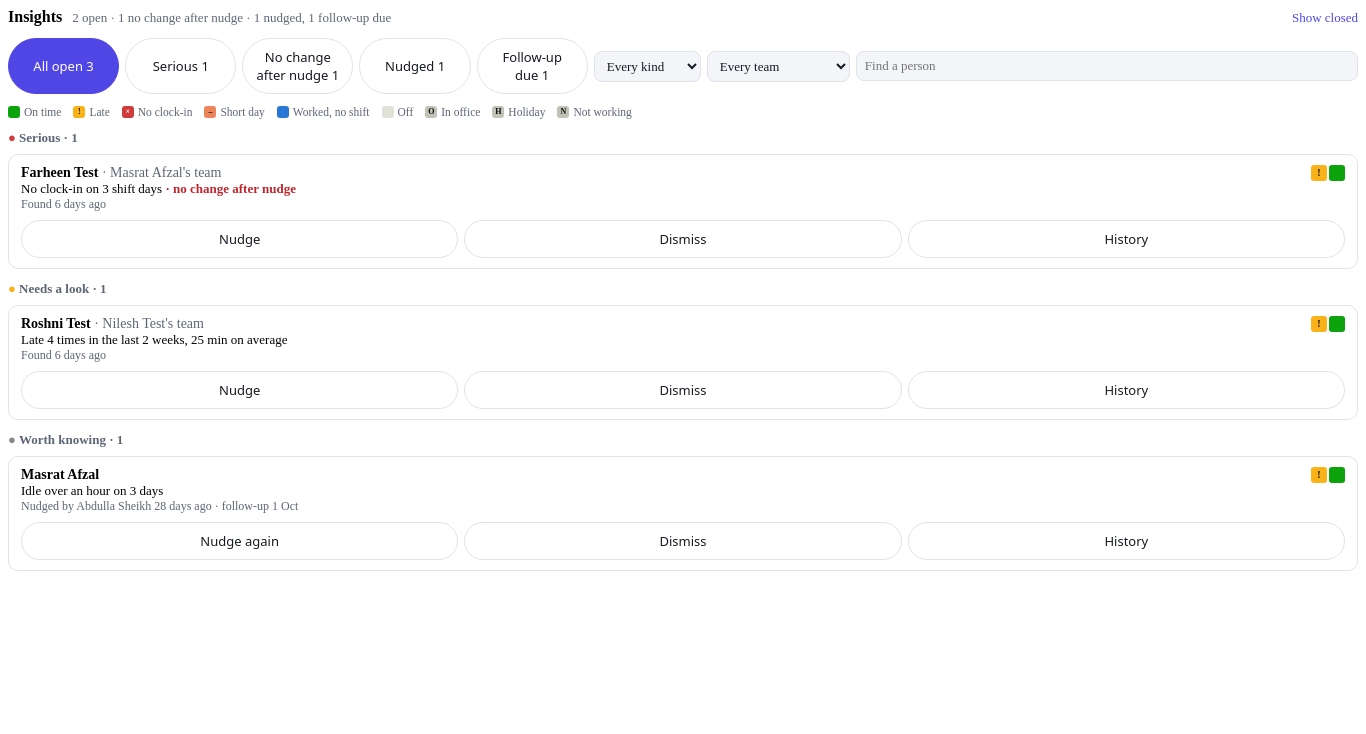
Insights inbox (ADR-0047 §4) › nudge refused: says why
This screenshot has width=1366, height=734.
Step 1. Click the button "Nudge" below "Roshni Test" → (240, 390), box [21, 371, 458, 409]
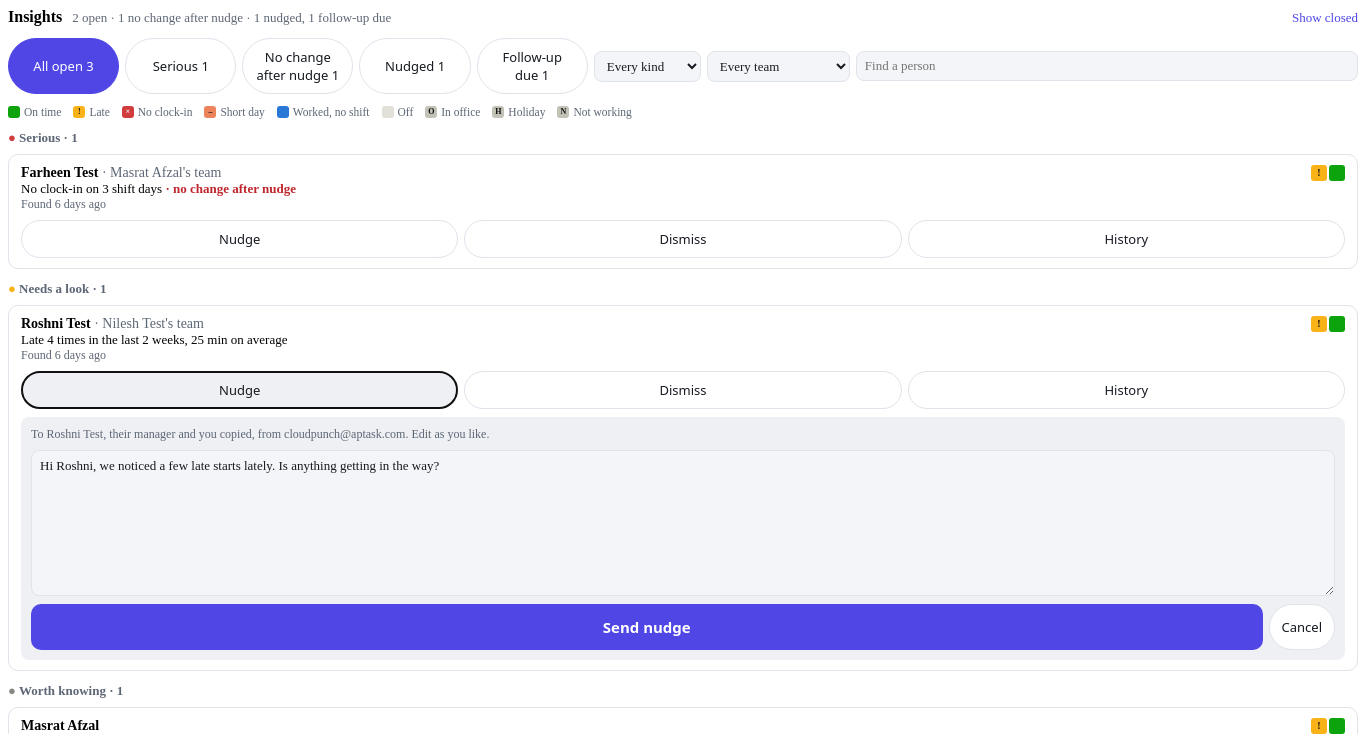
Step 2. Click the button "Send nudge" → (647, 627), box [31, 604, 1262, 650]
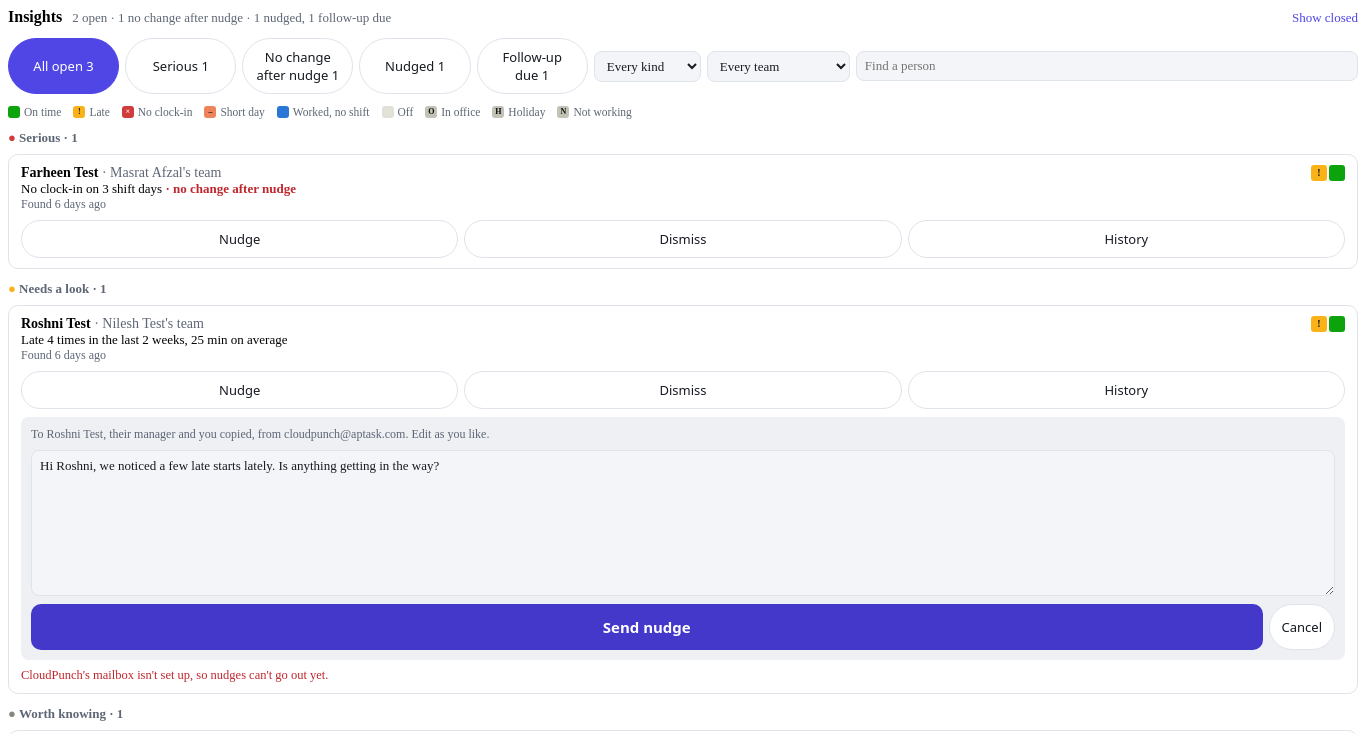
Now the message "CloudPunch's mailbox isn't set up, so nudges can't go out yet." is shown, box [21, 668, 328, 682]
